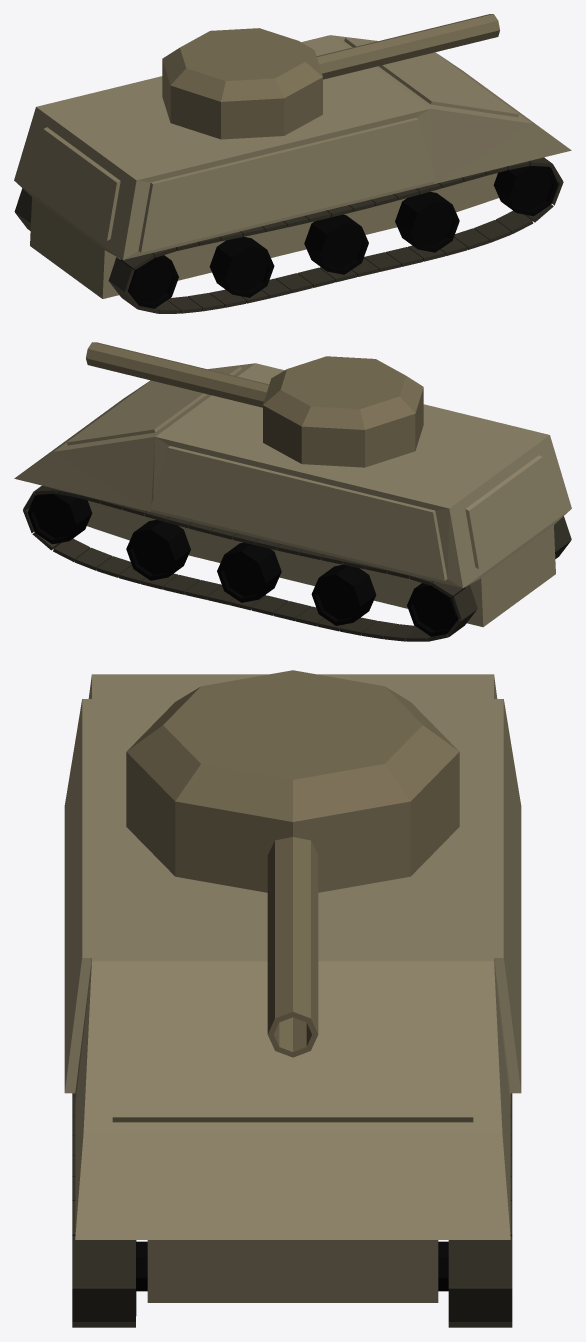
File: Tank.glb
3 views of the same model, one above another, from view 1: azimuth 30°, elevation 25°; view 2: azimuth 150°, elevation 25°; view 3: azimuth 270°, elevation 25° (orthographic). The views are drawn at different scales.
Parts seen in each view (by area): view 1: Body, Gun, Tracks; view 2: Body, Gun, Tracks; view 3: Body, Gun, Tracks.
Part boxes in pixels (box(x1,y1,x2,y2)): Body: box(14, 35, 571, 308); Gun: box(162, 14, 499, 139); Tracks: box(14, 157, 563, 313); Body: box(14, 363, 571, 636); Gun: box(86, 342, 423, 467); Tracks: box(23, 485, 571, 641); Body: box(64, 674, 521, 1315); Gun: box(126, 670, 459, 1057); Tracks: box(72, 1093, 512, 1327).
Bounding box in the file's own units: 10.36 × 4.34 × 4.54.
